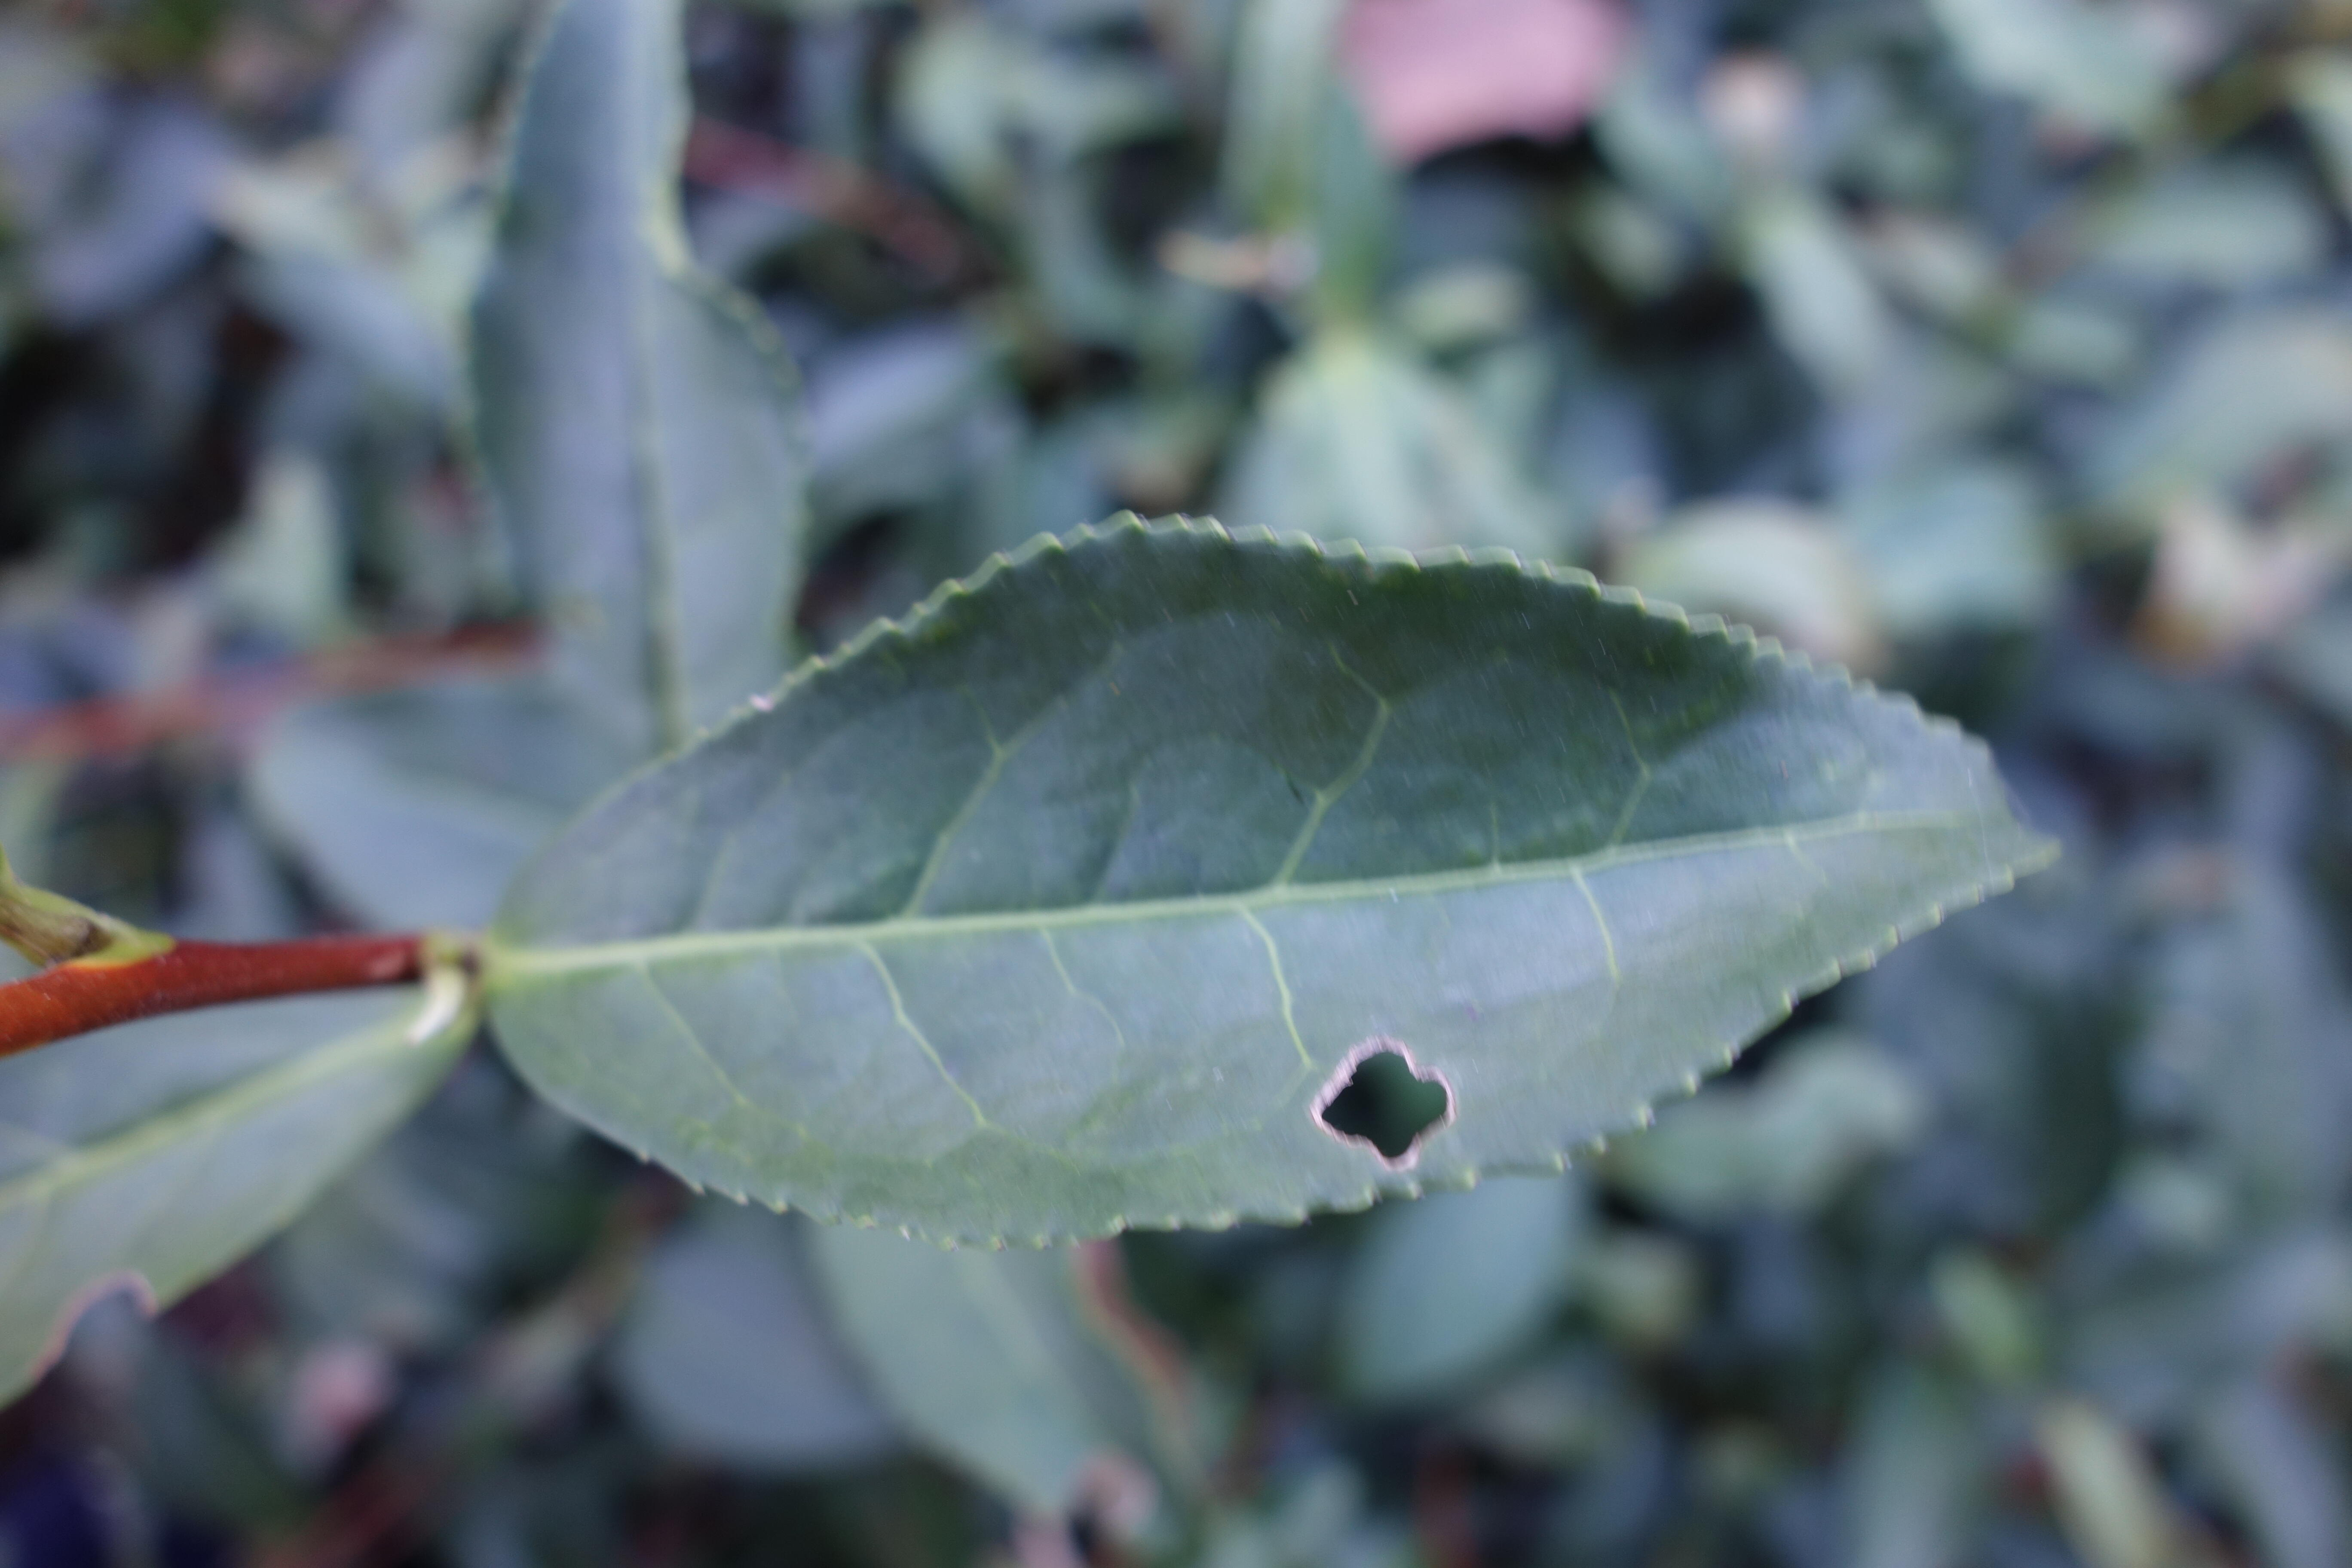chihuo_low: (474, 516, 2049, 1246), (3, 987, 469, 1405)
